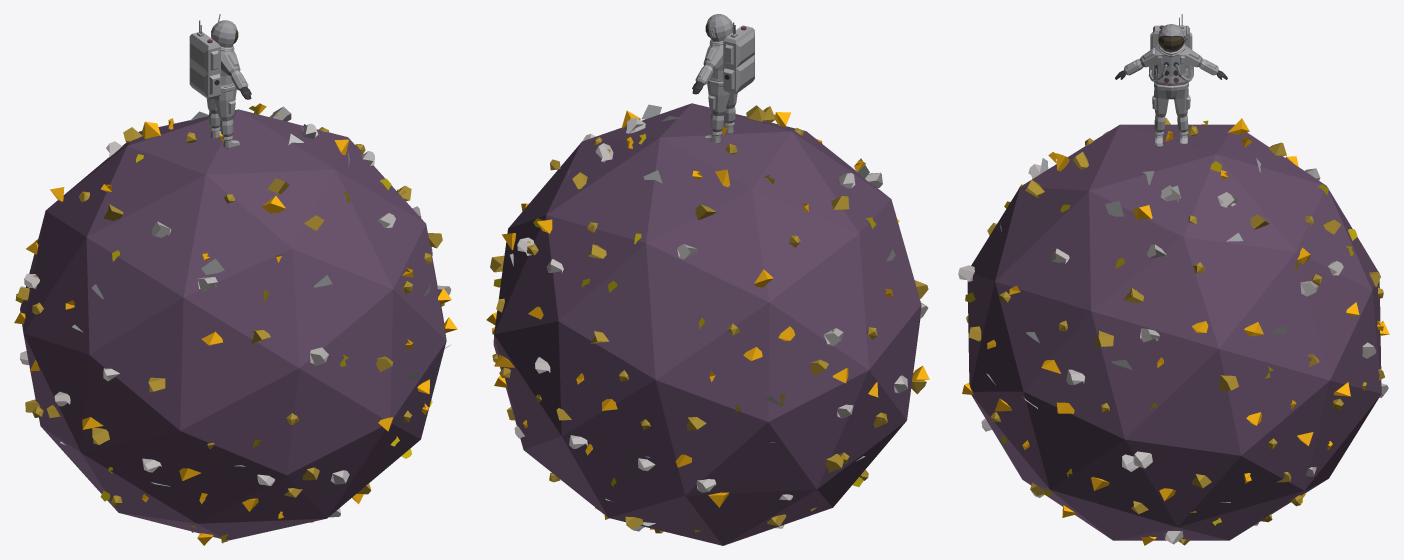
File: planet-transformed.glb
The picture shows the model from 3 angles, left to right: view 1: azimuth 30°, elevation 25°; view 2: azimuth 150°, elevation 25°; view 3: azimuth 270°, elevation 25°; orthographic projection. The views are drawn at different scales.
Visible parts, largest first — view 1: Planet; view 2: Planet; view 3: Planet.
Part boxes in pixels (x1,y1,x2,y2): Planet: (14, 14, 457, 545); Planet: (486, 14, 929, 545); Planet: (958, 14, 1389, 545).
Bounding box in the file's own units: 1.98 × 2.52 × 1.99.
Materials: 2 (2 with a texture image).
